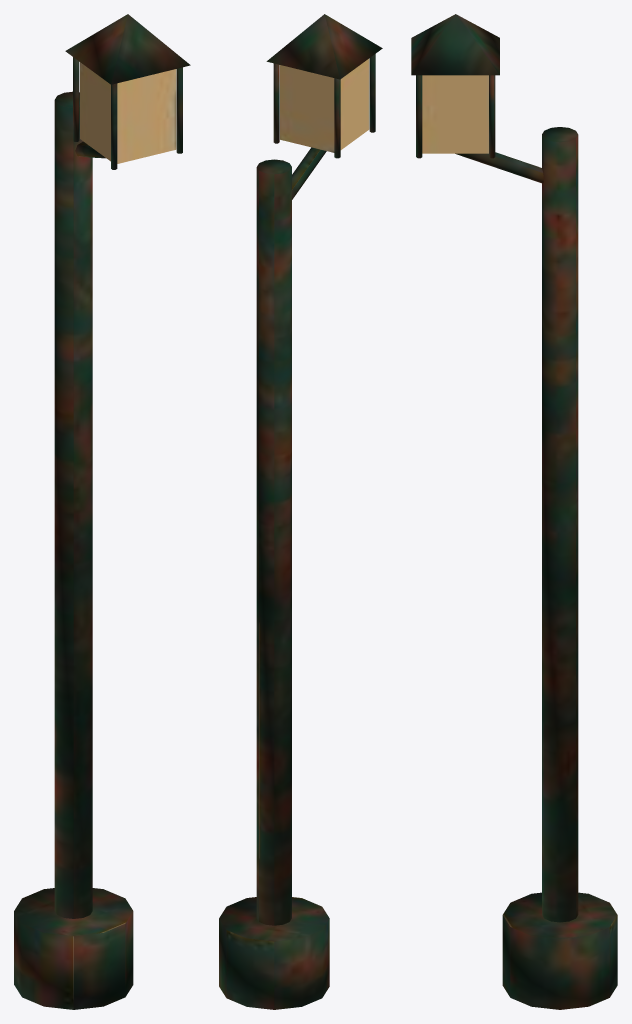
Rendered from lamp.glb.
3 renders of one model, left to right at view 1: azimuth 30°, elevation 25°; view 2: azimuth 150°, elevation 25°; view 3: azimuth 270°, elevation 25°, orthographic. The views are drawn at different scales.
Parts seen in each view (by area): view 1: Main; view 2: Main; view 3: Main.
Boxes of the visible parts, <box> form: Main: <box>14,14,190,1009</box>; Main: <box>219,14,382,1009</box>; Main: <box>411,14,617,1009</box>.
Size of the model in its own units: 0.44 by 4.11 by 0.7897.
1 material, 1 textured.
